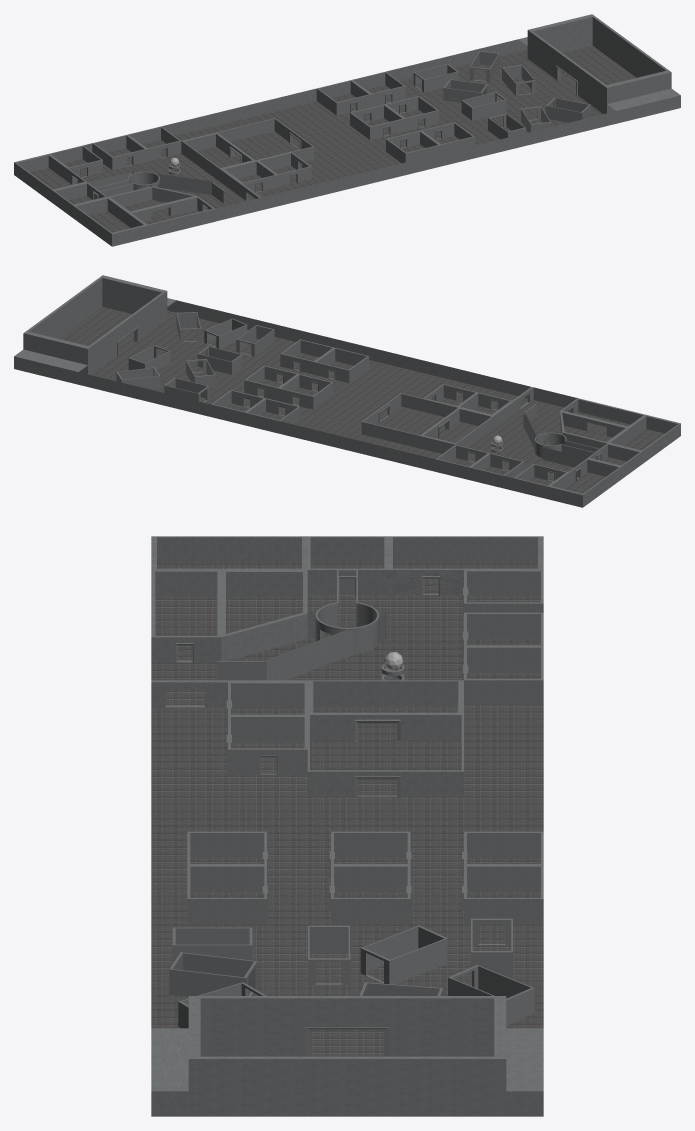
Rendered from Final_Layout2.fbx.
3 views of the same model, one above another, from view 1: azimuth 30°, elevation 25°; view 2: azimuth 150°, elevation 25°; view 3: azimuth 270°, elevation 25° (orthographic). The views are drawn at different scales.
Visible parts, largest first — view 1: Ground, Cube.011, Main Boss Room, Cube.003, Cube, Cube.002, Cylinder, Cube.012, Cube.007, Cube.013, Cube.015, Cube.004 (+15 smaller); view 2: Ground, Cube.003, Main Boss Room, Cube.011, Cube.002, Cube, Cube.015, Cube.013, Cube.016, Cube.014, Cube.027, Cylinder (+16 smaller); view 3: Ground, Main Boss Room, Cube.002, Cube, Cube.003, Cube.011, Cylinder, Cube.014, Cube.016, Cube.004, Cube.010, Cube.020 (+13 smaller).
Boxes of the visible parts, x1,y1,x2,y2 form: Ground: (30, 46, 636, 232); Cube.011: (73, 88, 680, 246); Main Boss Room: (527, 14, 671, 114); Cube.003: (14, 37, 527, 203); Cube: (53, 171, 215, 238); Cube.002: (181, 118, 314, 210); Cylinder: (128, 171, 224, 203); Cube.012: (316, 80, 371, 115); Cube.007: (92, 135, 146, 170); Cube.013: (350, 104, 404, 139); Cube.015: (386, 130, 440, 163); Cube.004: (127, 126, 181, 161); Ground: (58, 307, 664, 493); Cube.003: (14, 349, 621, 507); Main Boss Room: (23, 275, 167, 375); Cube.011: (167, 298, 680, 464); Cube.002: (361, 387, 533, 453); Cube: (542, 398, 645, 478); Cube.015: (314, 347, 369, 383); Cube.013: (279, 374, 333, 409); Cube.016: (280, 339, 333, 374); Cube.014: (244, 365, 298, 400); Cube.027: (197, 346, 242, 374); Cylinder: (523, 404, 566, 457); Ground: (151, 562, 543, 1056); Main Boss Room: (188, 996, 506, 1116); Cube.002: (151, 680, 463, 796); Cube: (151, 536, 387, 662); Cube.003: (387, 536, 543, 1116); Cube.011: (151, 536, 307, 1116); Cylinder: (217, 602, 379, 680); Cube.014: (331, 865, 410, 924); Cube.016: (187, 865, 266, 924); Cube.004: (464, 646, 543, 705); Cube.010: (464, 865, 543, 924); Cube.020: (228, 716, 307, 774).
Bounding box in the file's own units: 329732 × 16537 × 98542.
3 materials, 2 textured.
